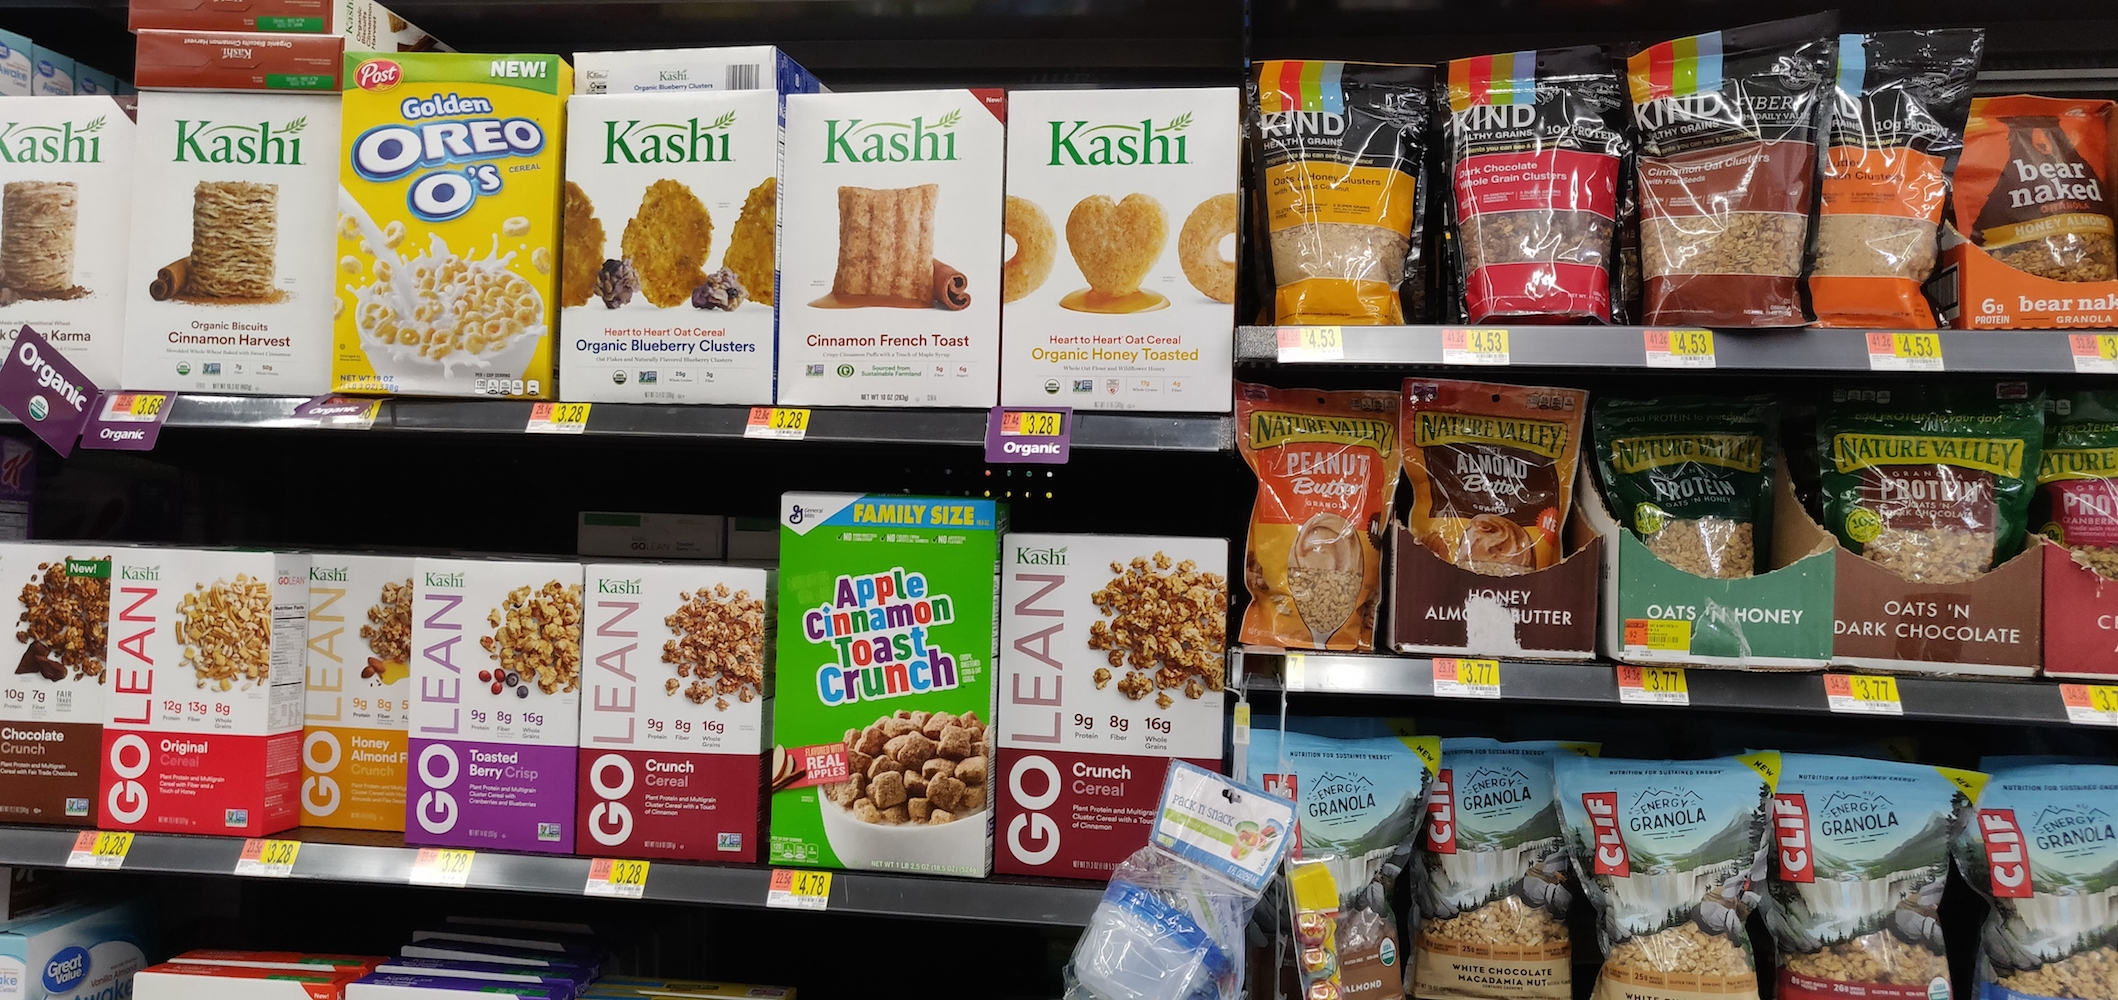Oreo Golden-568301011: (326, 39, 563, 397)
